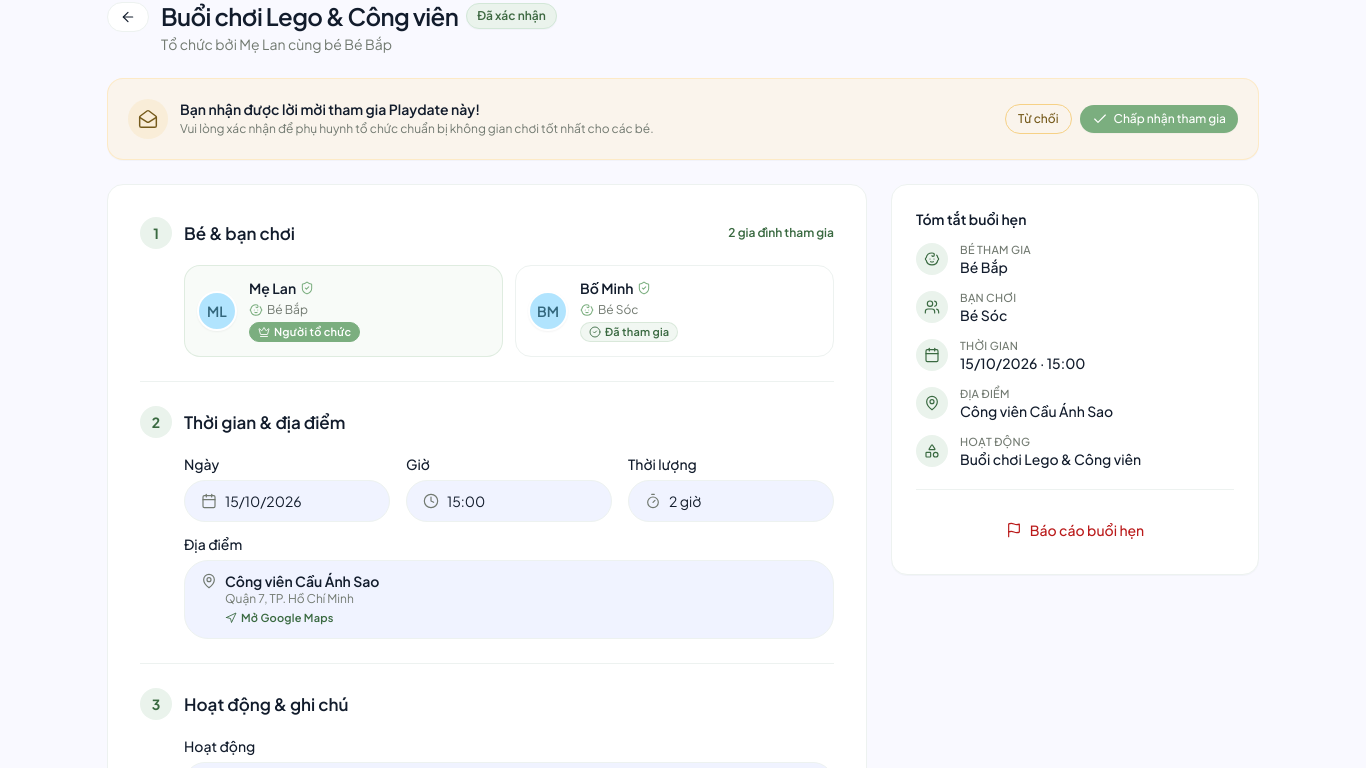
Test: PlaydateDetailPage Component › lets an invited parent report the playdate (against its host)
Click the button "Báo cáo buổi hẹn" at (1075, 530), box [916,510,1234,550]
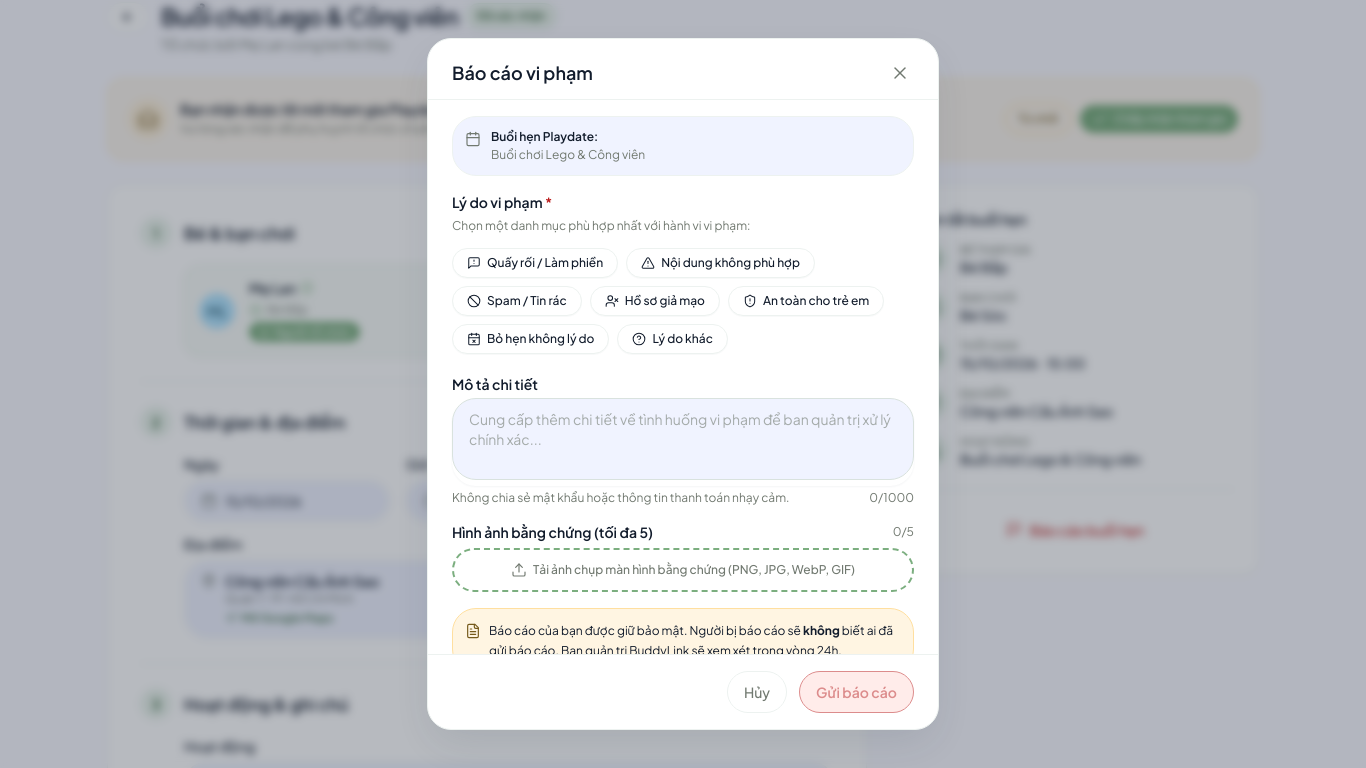
Now the text "Buổi hẹn Playdate:" is shown, box [491,129,598,144]
